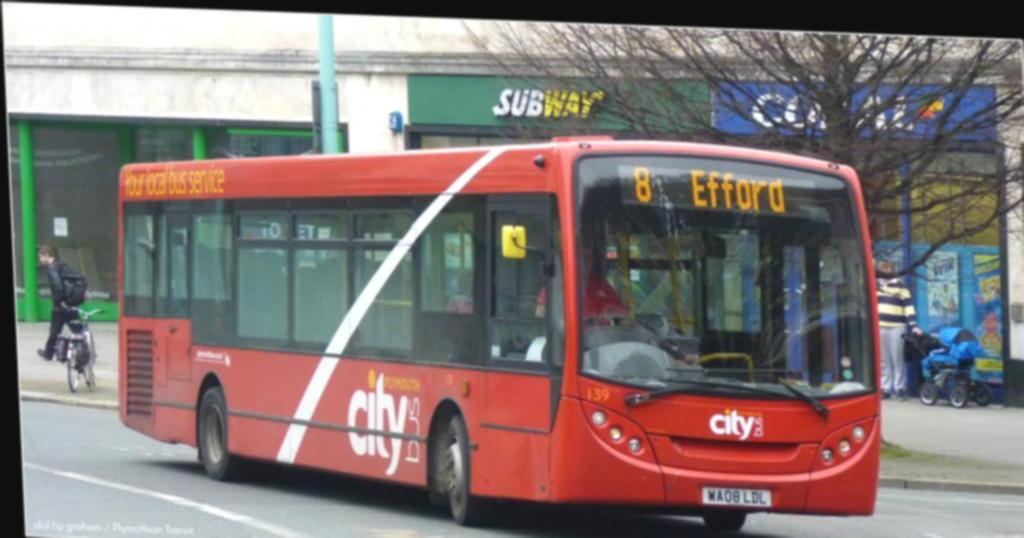License_Plate: (699, 484, 776, 508)
